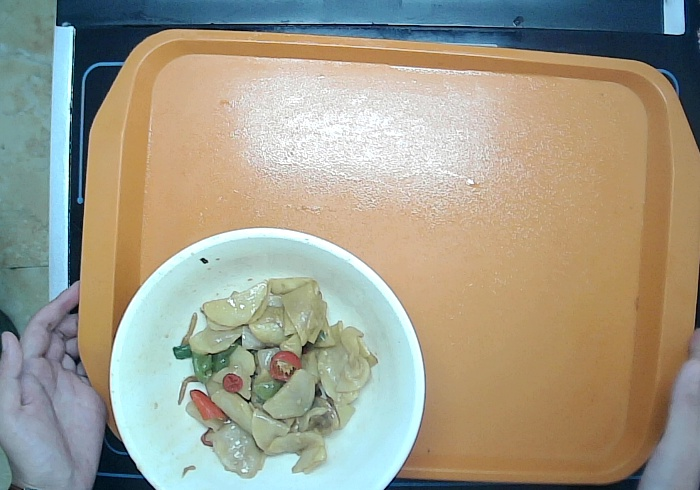ZNLD-Da_Tang_Wan: (103, 219, 427, 490)
